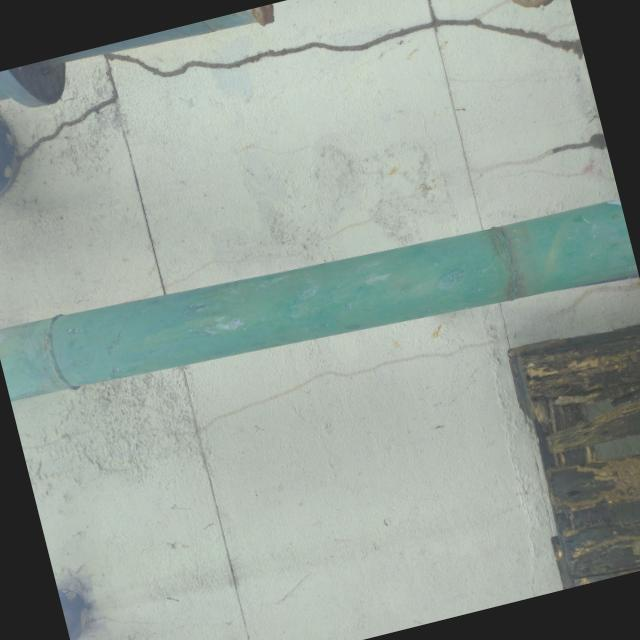gas: (0, 179, 639, 435)
